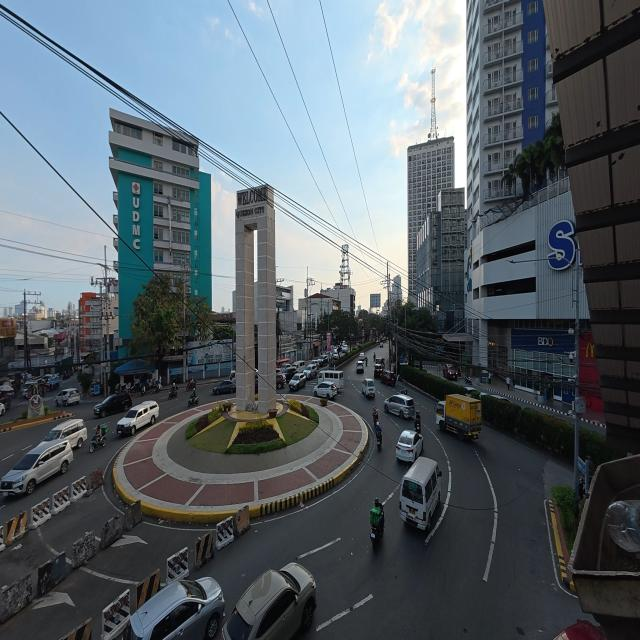car: (222, 563, 316, 639), (130, 577, 224, 639), (0, 441, 73, 495), (44, 419, 87, 448), (94, 392, 132, 417), (396, 431, 423, 462), (384, 395, 415, 418), (55, 388, 80, 406), (314, 381, 337, 399), (212, 380, 236, 395), (480, 392, 511, 403), (23, 379, 41, 397), (289, 373, 306, 390), (380, 370, 396, 386), (442, 364, 458, 380), (303, 362, 318, 379), (282, 365, 297, 382), (362, 378, 375, 397), (0, 393, 12, 409), (276, 372, 287, 389), (374, 364, 383, 378), (356, 360, 364, 374), (310, 359, 320, 369), (319, 355, 328, 366), (465, 387, 476, 395), (341, 344, 348, 354), (0, 403, 5, 415), (255, 376, 258, 393), (359, 352, 365, 360), (380, 342, 383, 347)
motorcycle: (89, 425, 108, 452), (370, 524, 384, 549), (128, 381, 142, 394), (150, 381, 162, 393), (414, 417, 421, 434), (376, 431, 382, 450), (188, 396, 199, 406), (168, 387, 177, 399), (187, 381, 195, 391), (465, 375, 472, 384), (141, 384, 146, 395), (400, 389, 407, 394)
trucks: (436, 395, 481, 439)
vans: (400, 458, 441, 529), (117, 401, 159, 435), (318, 370, 343, 389), (362, 378, 375, 398), (293, 361, 305, 372)
